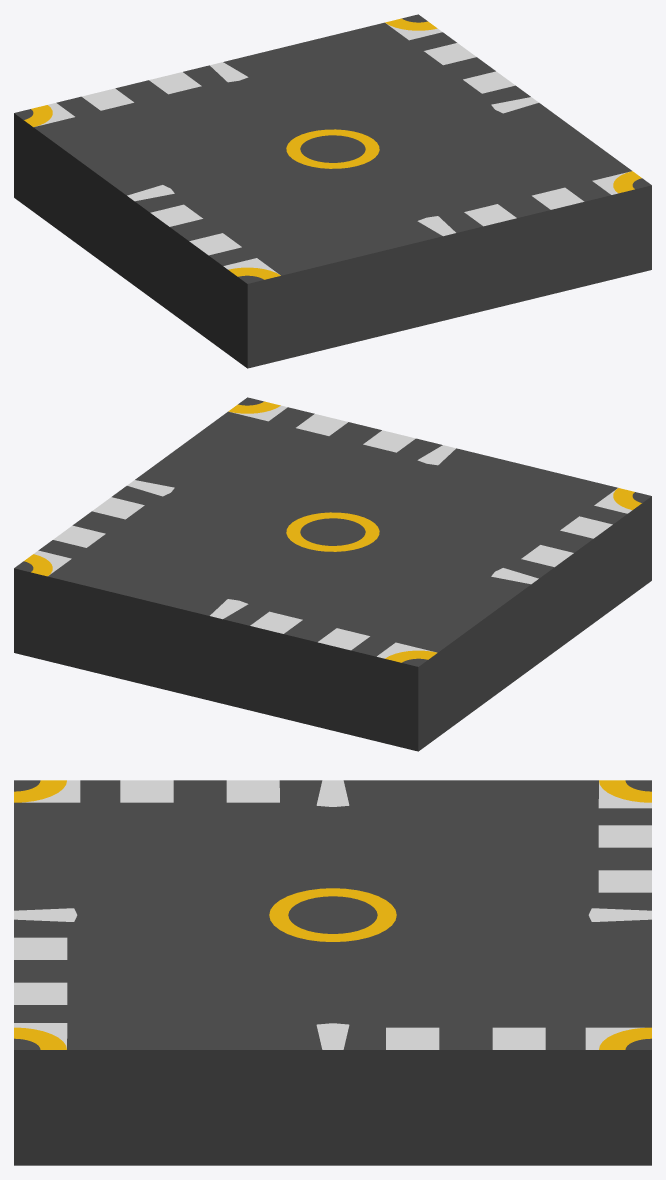
The model's file is roundabout.fbx.
3 views of the same model, one above another, from view 1: azimuth 30°, elevation 25°; view 2: azimuth 150°, elevation 25°; view 3: azimuth 270°, elevation 25° (orthographic). The views are drawn at different scales.
Parts seen in each view (by area): view 1: Cube; view 2: Cube; view 3: Cube.
Part boxes in pixels (x1=…): Cube: x1=14, y1=14, x2=651, y2=368; Cube: x1=14, y1=397, x2=651, y2=751; Cube: x1=14, y1=780, x2=651, y2=1165.
Size of the model in its own units: 100 by 20 by 100.
